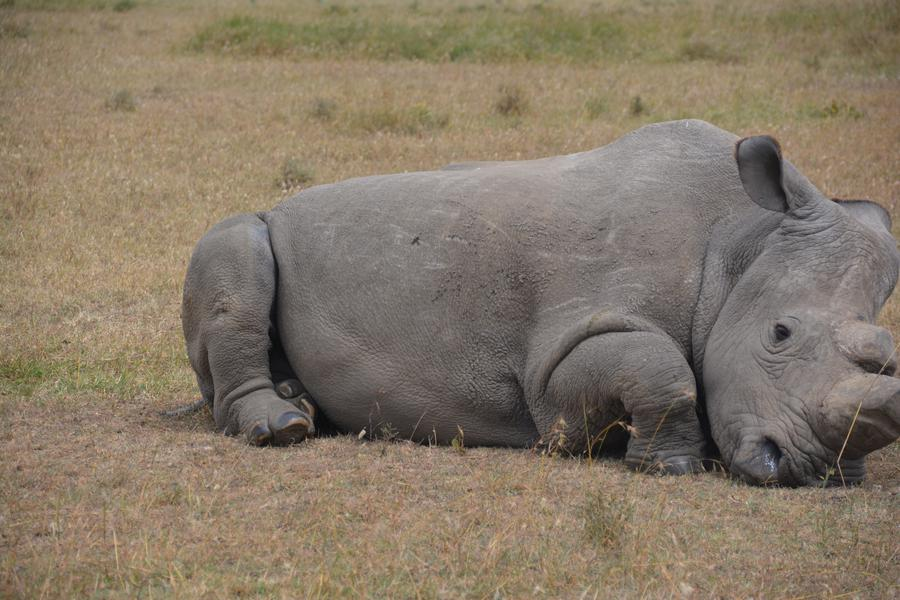rhino: (205, 109, 854, 499)
